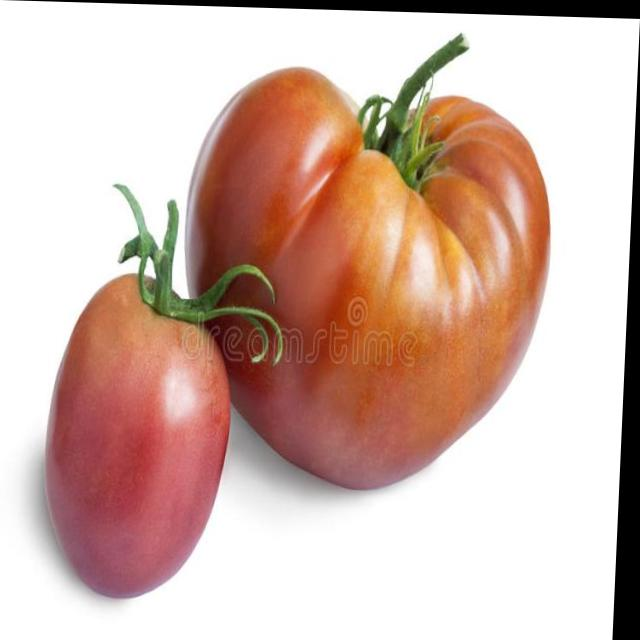kirmizi: (50, 52, 564, 589)
